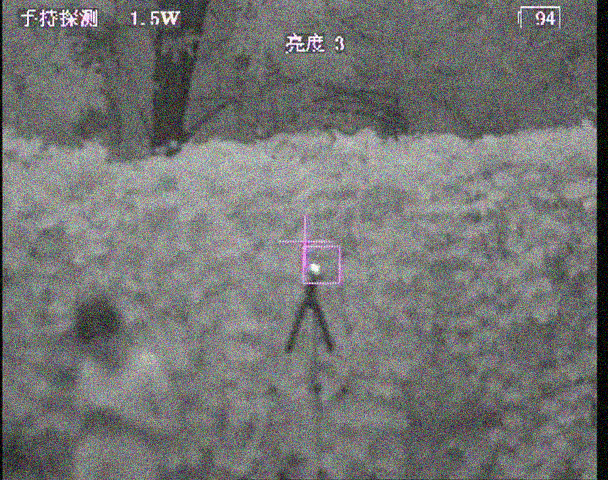my: (309, 262, 321, 276)
